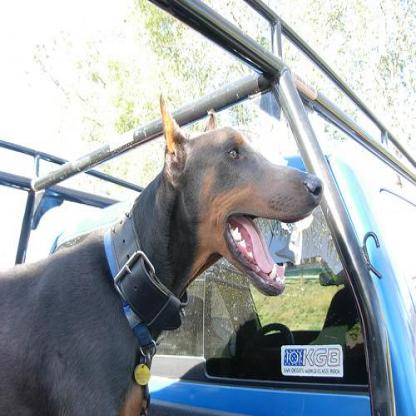Doberman: (0, 93, 324, 414)
